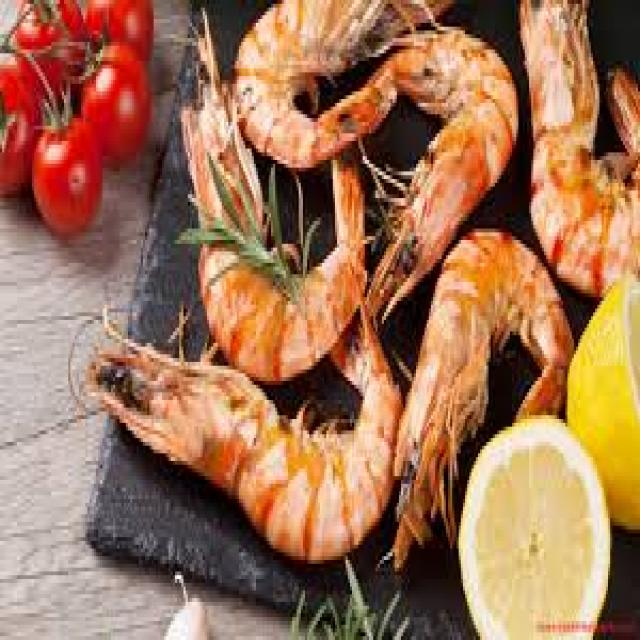lemon: (468, 420, 607, 640), (581, 285, 640, 442)
shrimp: (92, 361, 383, 567), (180, 154, 357, 370), (520, 0, 638, 221), (398, 27, 515, 231), (225, 0, 377, 149), (408, 226, 525, 419)
tomato: (29, 111, 102, 236), (99, 41, 151, 167)
